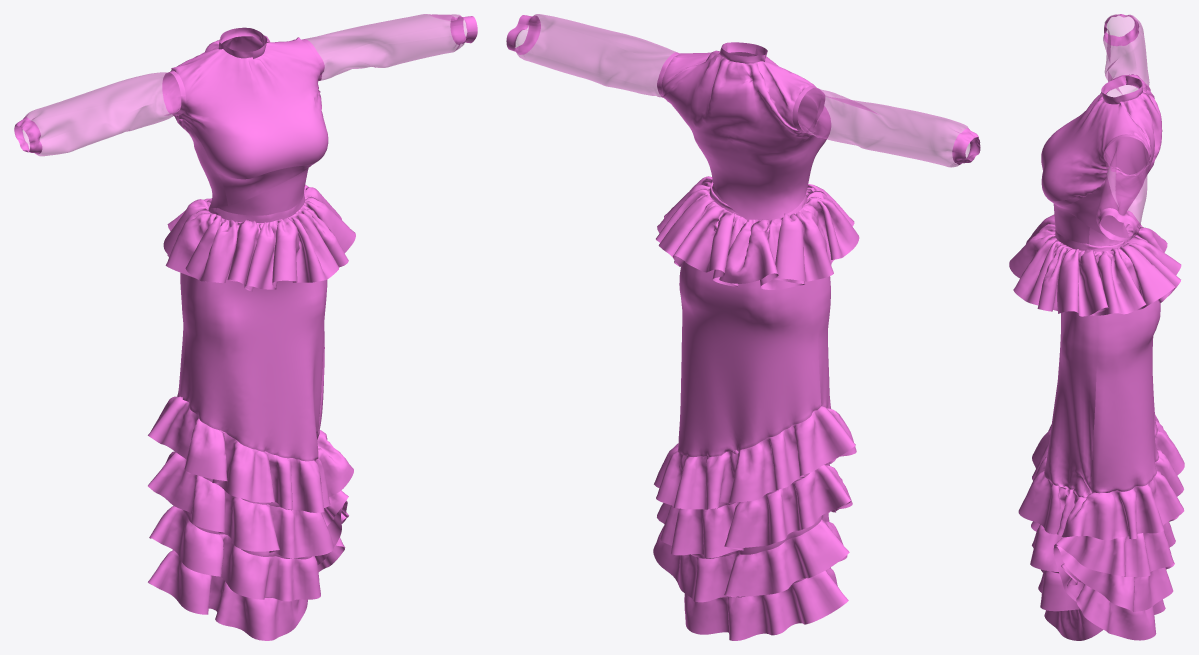
The model's file is G_pink.glb.
3 views of the same model, side by side, from view 1: azimuth 30°, elevation 25°; view 2: azimuth 150°, elevation 25°; view 3: azimuth 270°, elevation 25° (orthographic). The views are drawn at different scales.
Visible parts, largest first — view 1: Garment; view 2: Garment; view 3: Garment.
Part boxes in pixels (x1,y1,x2,y2): Garment: [14, 14, 477, 640]; Garment: [506, 14, 980, 640]; Garment: [1009, 14, 1184, 640].
Size of the model in its own units: 1.15 by 1.41 by 0.4118.
1 material, 1 textured.
